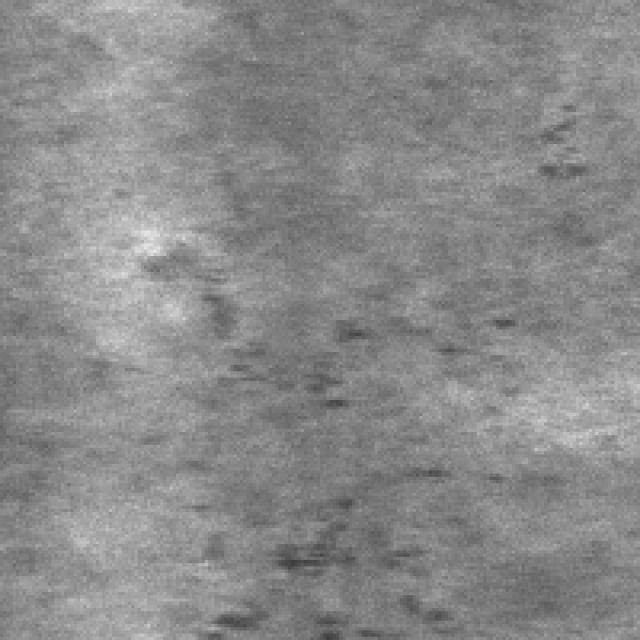rolled-in_scale: (180, 278, 454, 637), (522, 58, 592, 182)
